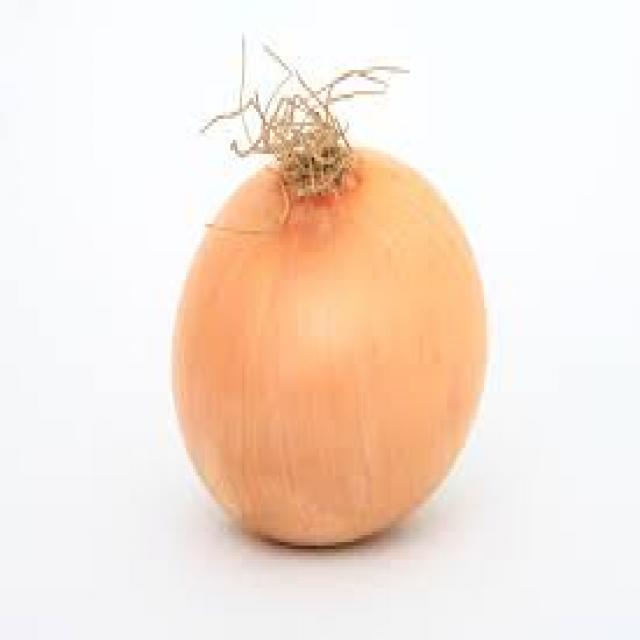organic waste: (168, 21, 484, 546)
